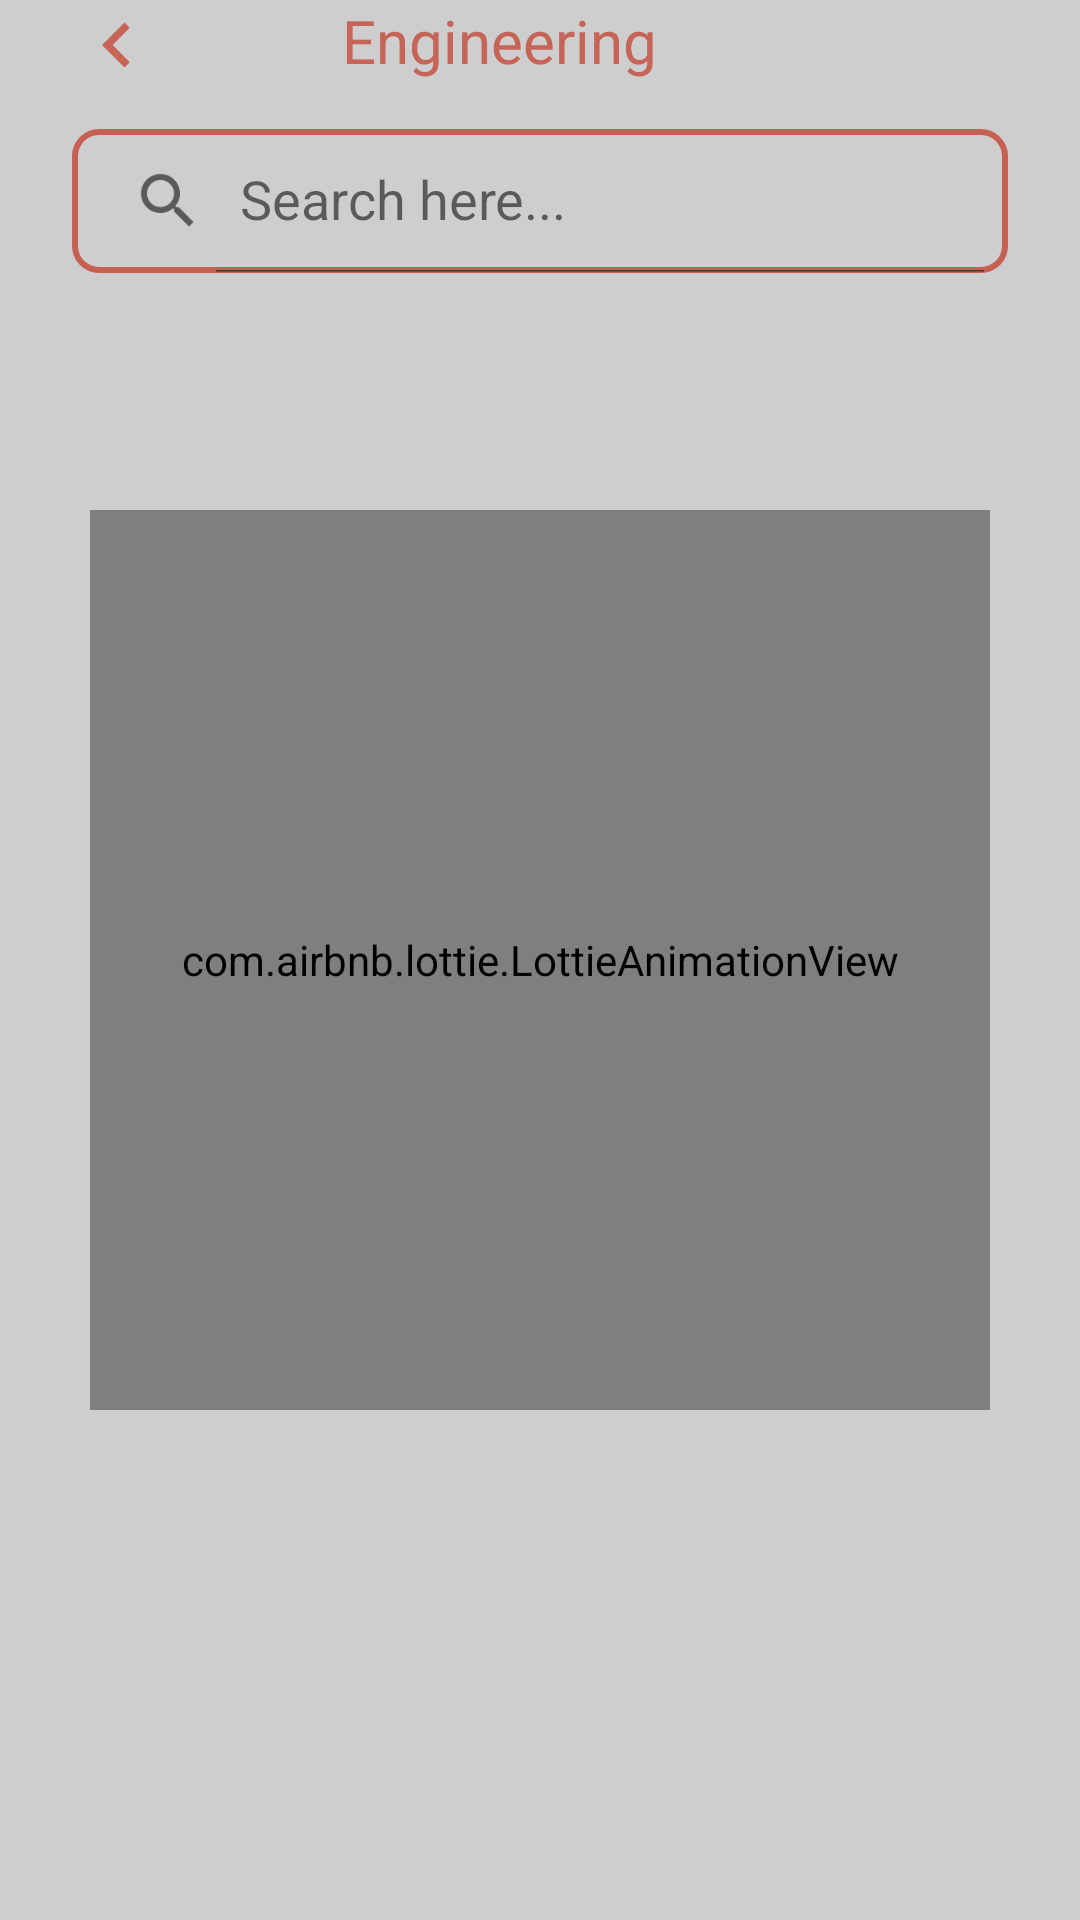

Locate icon controls on the screen. Image size 1080px x 1920px, boxes as (x1, y1, x2, y2).
arrow left: (102, 22, 130, 68)
